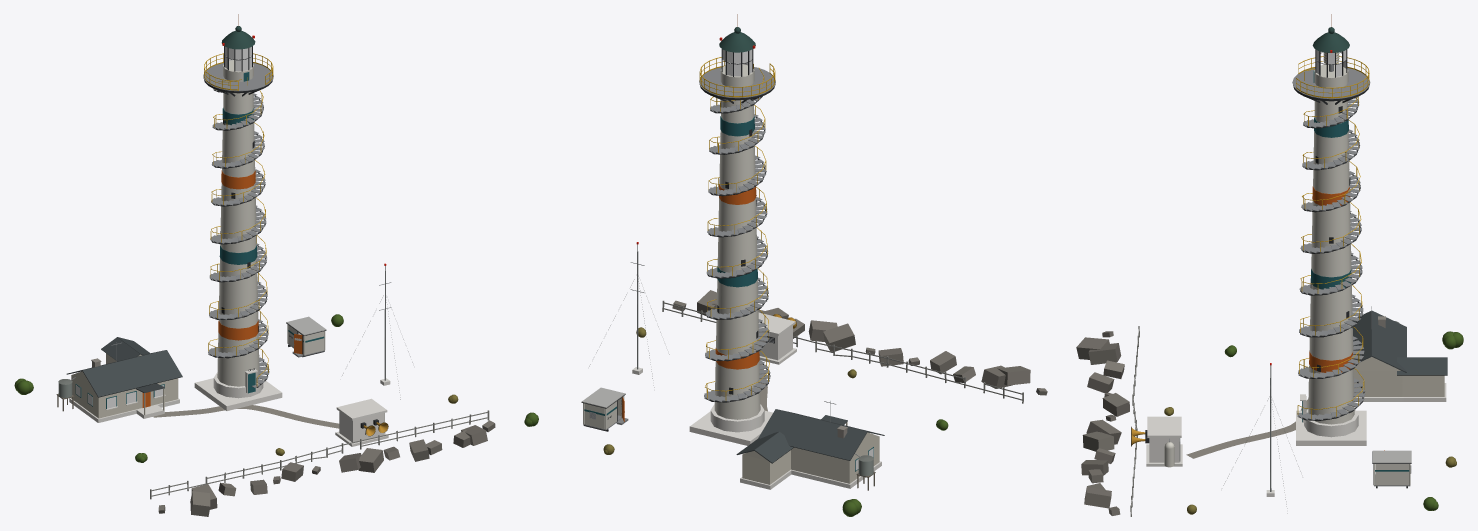
The model's file is coast-beacon.glb.
3 renders of one model, left to right at view 1: azimuth 30°, elevation 25°; view 2: azimuth 150°, elevation 25°; view 3: azimuth 270°, elevation 25°, orthographic. The views are drawn at different scales.
Visible parts, largest first — view 1: C0_0_lod0, C-1_0_lod0, C0_-1_lod0, C-1_-1_lod0; view 2: C0_0_lod0, C-1_0_lod0, C0_-1_lod0, C-1_-1_lod0; view 3: C0_0_lod0, C-1_0_lod0, C0_-1_lod0, C-1_-1_lod0.
Part boxes in pixels (x1=…): C0_0_lod0: x1=153, y1=14, x2=343, y2=428; C-1_0_lod0: x1=14, y1=43, x2=255, y2=422; C0_-1_lod0: x1=326, y1=263, x2=495, y2=472; C-1_-1_lod0: x1=135, y1=448, x2=326, y2=516; C0_0_lod0: x1=524, y1=14, x2=775, y2=454; C-1_0_lod0: x1=716, y1=45, x2=884, y2=516; C0_-1_lod0: x1=589, y1=242, x2=855, y2=387; C-1_-1_lod0: x1=834, y1=346, x2=1047, y2=430; C0_0_lod0: x1=1186, y1=14, x2=1456, y2=510; C-1_0_lod0: x1=1298, y1=51, x2=1463, y2=401; C0_-1_lod0: x1=1081, y1=363, x2=1300, y2=516; C-1_-1_lod0: x1=1076, y1=326, x2=1236, y2=425.
Size of what is drawn, in the model's own units: 43.01 by 46.27 by 38.3.
